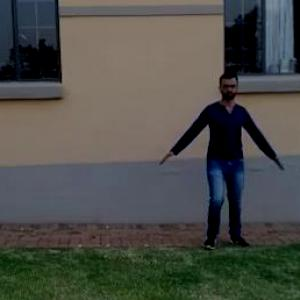land: (169, 73, 279, 242)
